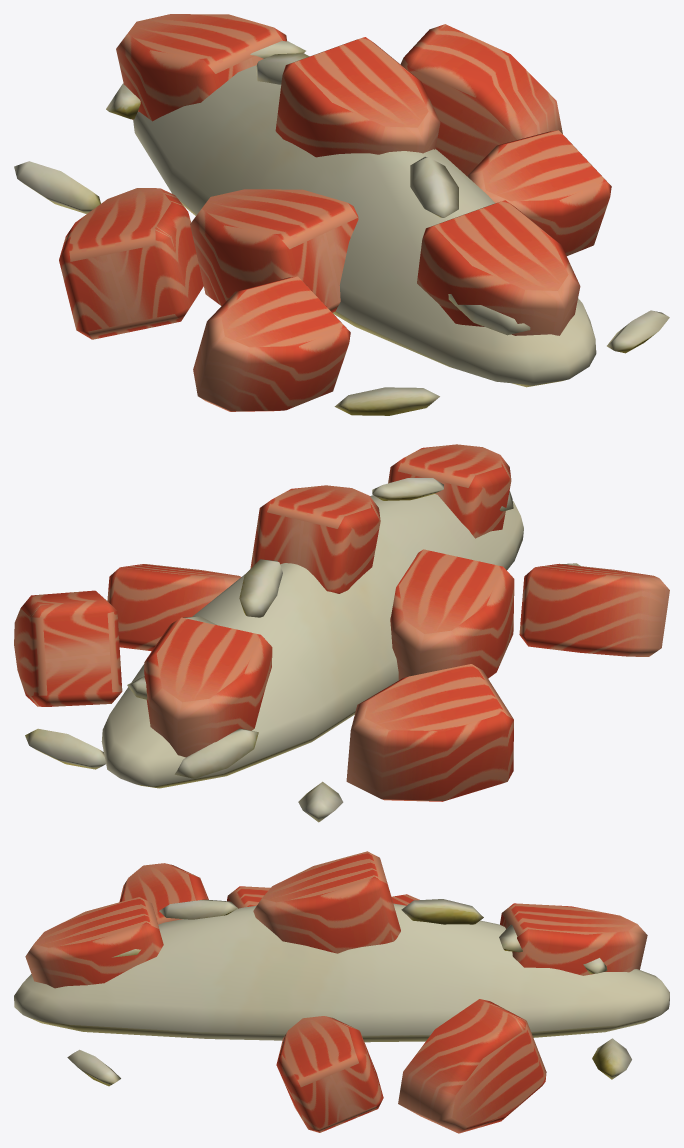
Rendered from m_plated_rice_fish_01.fbx.
3 renders of one model, top to bottom at view 1: azimuth 30°, elevation 25°; view 2: azimuth 150°, elevation 25°; view 3: azimuth 270°, elevation 25°, orthographic. The views are drawn at different scales.
Parts seen in each view (by area): view 1: m_plated_rice_fish_01_0, m_plated_rice_fish_01_1; view 2: m_plated_rice_fish_01_0, m_plated_rice_fish_01_1; view 3: m_plated_rice_fish_01_1, m_plated_rice_fish_01_0.
Part boxes in pixels (x1,y1,x2,y2): m_plated_rice_fish_01_0: (59, 14, 611, 411); m_plated_rice_fish_01_1: (14, 41, 669, 415); m_plated_rice_fish_01_0: (14, 444, 669, 801); m_plated_rice_fish_01_1: (25, 478, 580, 822); m_plated_rice_fish_01_1: (14, 899, 669, 1086); m_plated_rice_fish_01_0: (25, 851, 647, 1133).
Size of the model in its own units: 0.7686 by 0.344 by 1.01.
2 materials, 2 textured.
